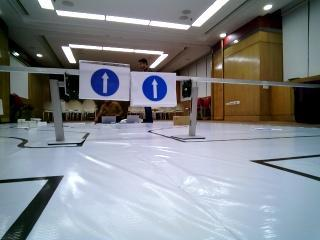straight: (78, 61, 128, 102), (130, 73, 175, 106)
